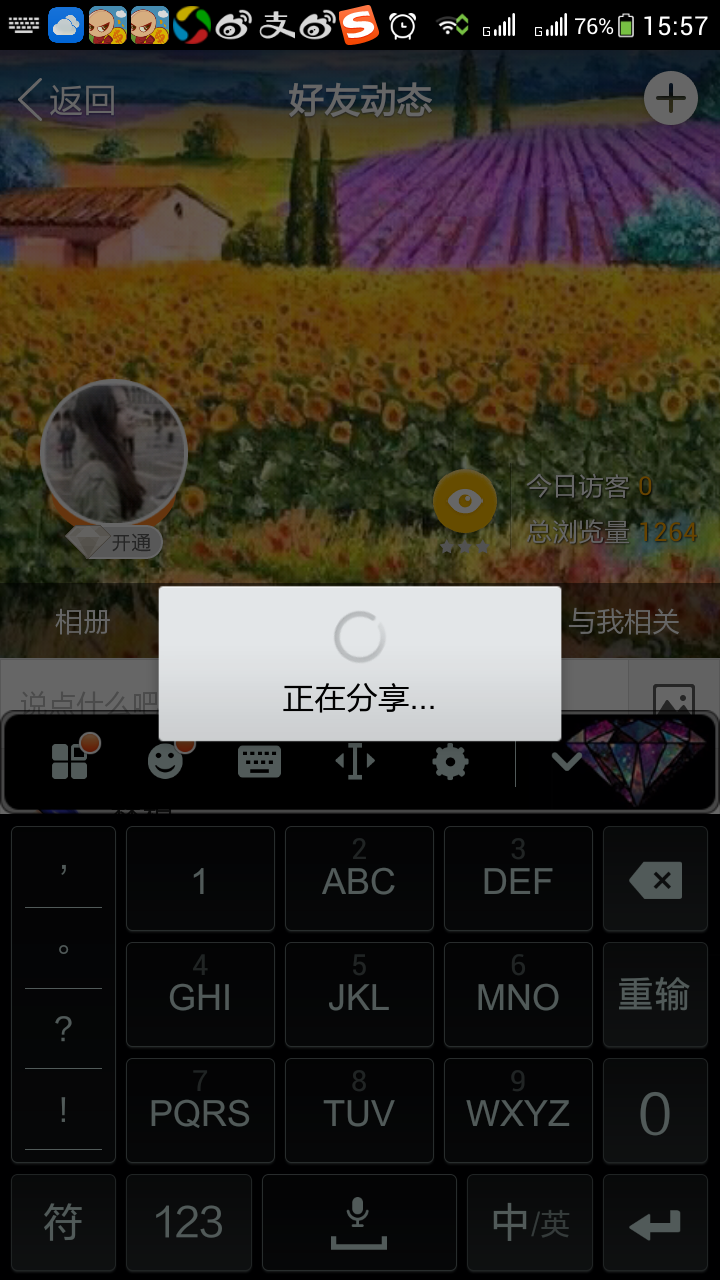imgbutton: (637, 58, 709, 134)
